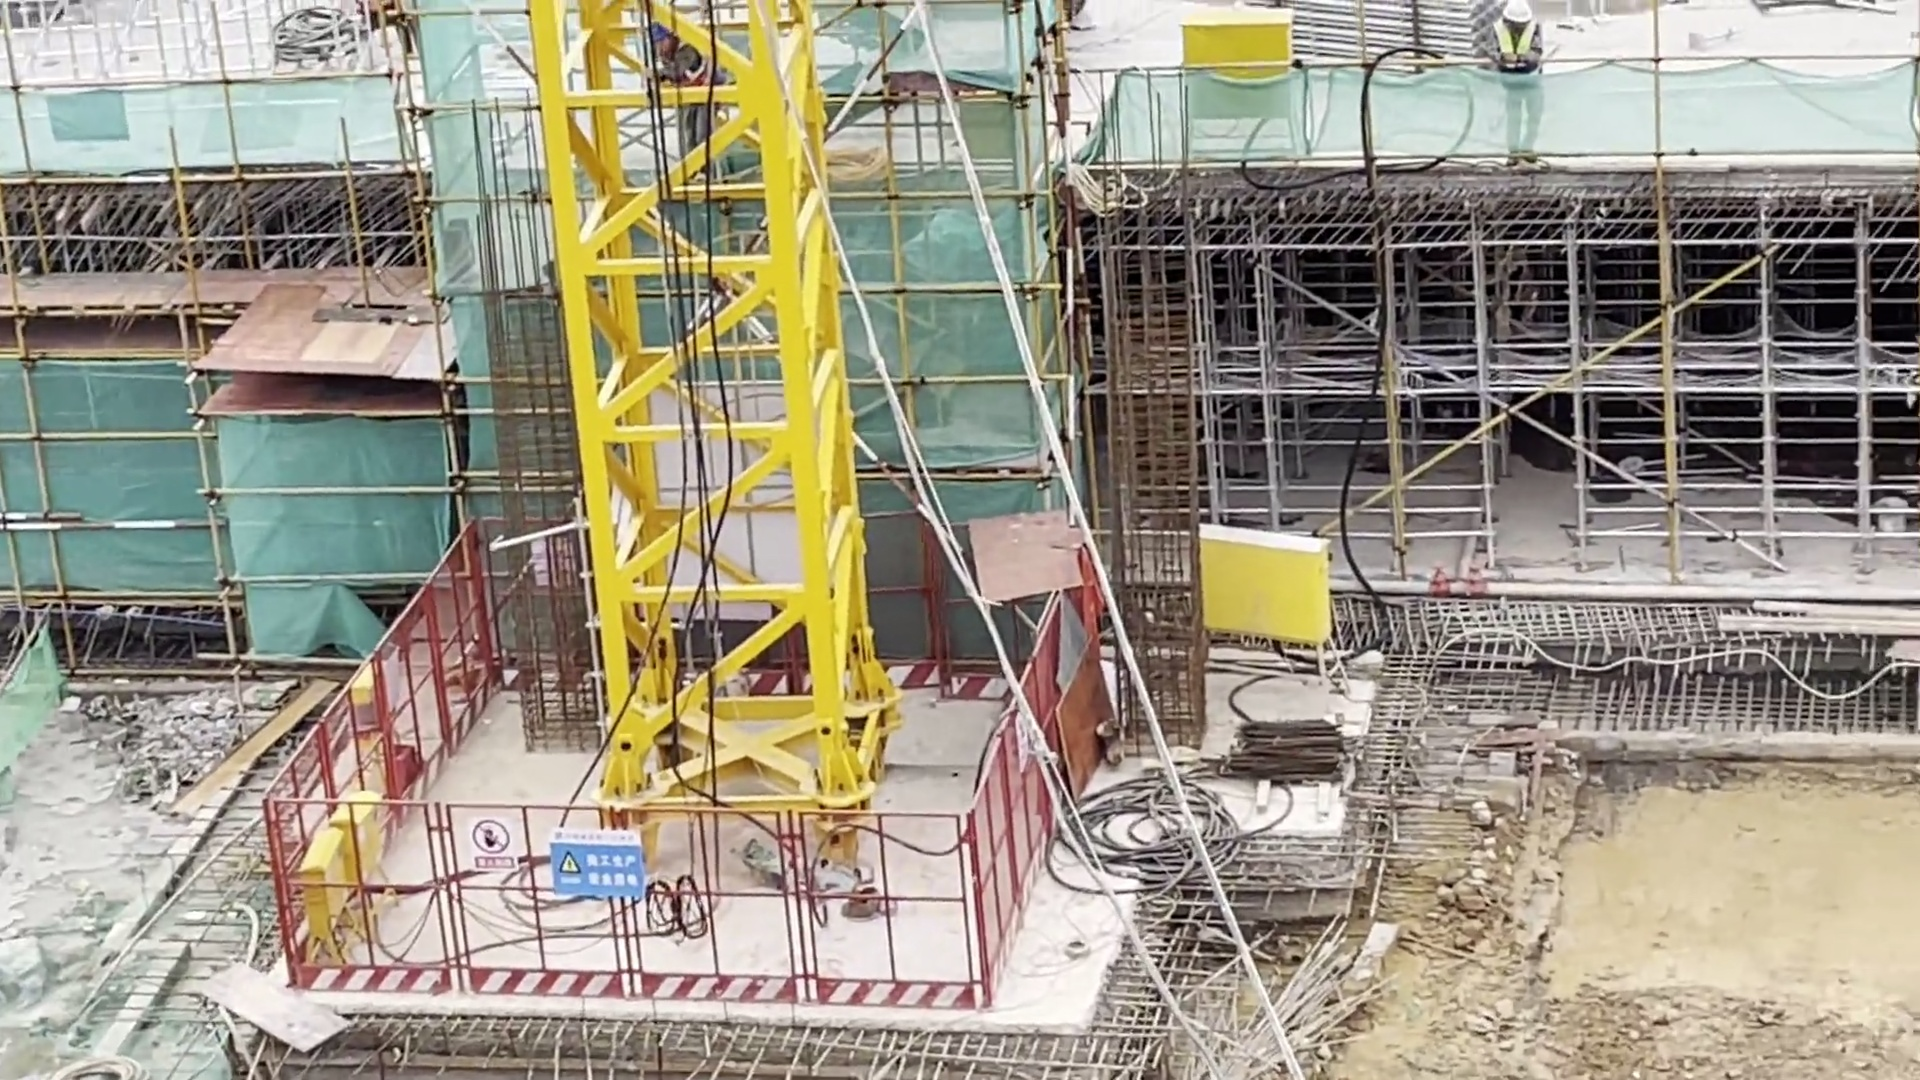helmet: (1501, 3, 1545, 28)
person: (1485, 7, 1561, 169)
vest: (1494, 24, 1550, 85)
